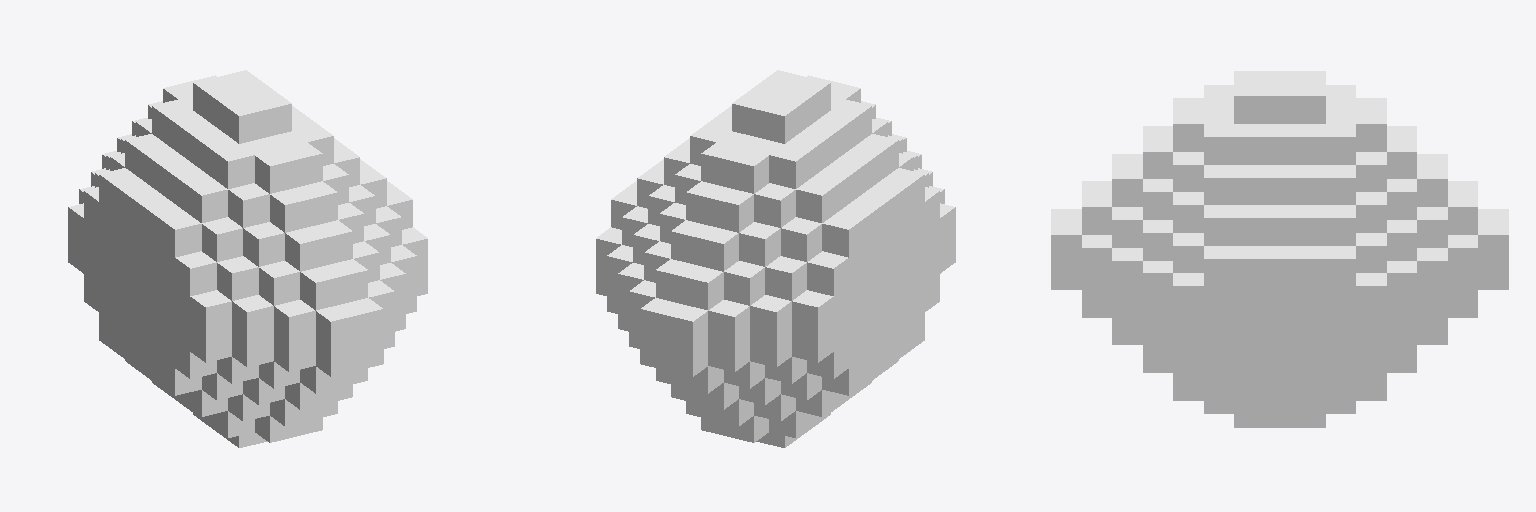
The model's file is bombeman-4-body.obj.
The picture shows the model from 3 angles: view 1: azimuth 30°, elevation 25°; view 2: azimuth 150°, elevation 25°; view 3: azimuth 270°, elevation 25°; orthographic projection.
Parts seen in each view (by area): view 1: body; view 2: body; view 3: body.
Part boxes in pixels (x1,y1,x2,y2): body: (68,70,427,447); body: (596,70,955,447); body: (1051,71,1508,427).
Bounding box in the file's own units: 0.9 × 1.2 × 1.5.